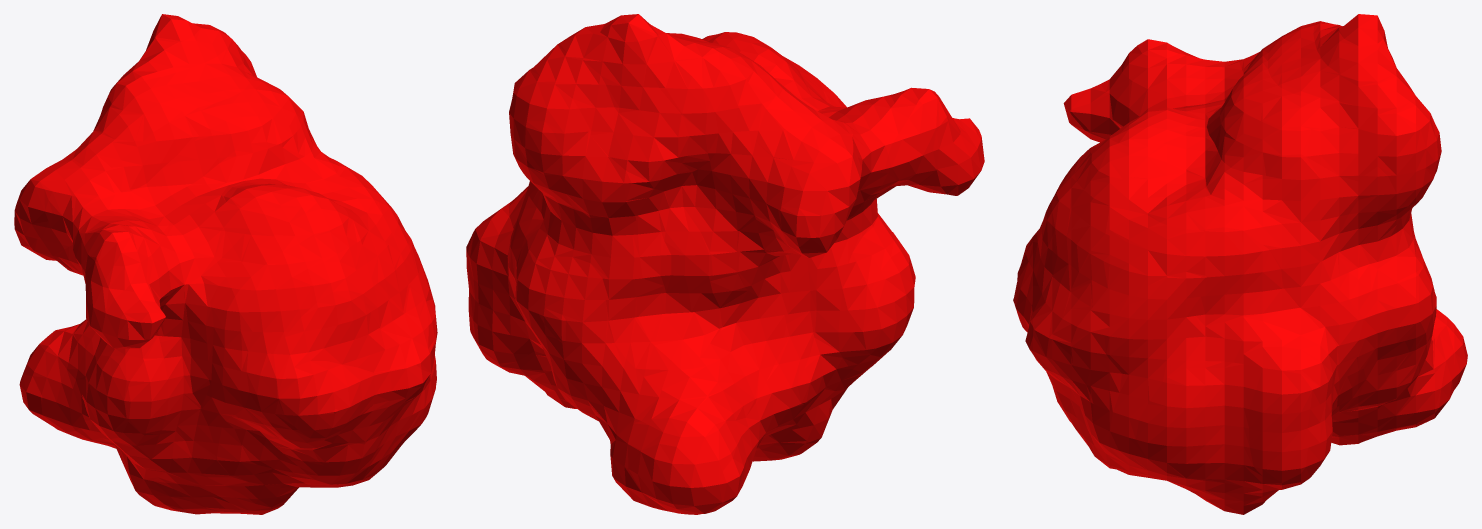
File: guaC_coarse.dae
3 renders of one model, left to right at view 1: azimuth 30°, elevation 25°; view 2: azimuth 150°, elevation 25°; view 3: azimuth 270°, elevation 25°, orthographic. The views are drawn at different scales.
Parts seen in each view (by area): view 1: guaC; view 2: guaC; view 3: guaC.
Part boxes in pixels (x1=…): guaC: x1=14, y1=14, x2=437, y2=514; guaC: x1=466, y1=14, x2=984, y2=514; guaC: x1=1013, y1=14, x2=1467, y2=514.
Bounding box in the file's own units: 54.49 × 60.37 × 54.45.
